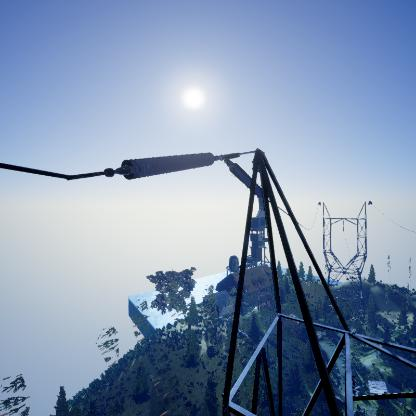insulator: (120, 153, 216, 180)
tower: (312, 197, 377, 328)
